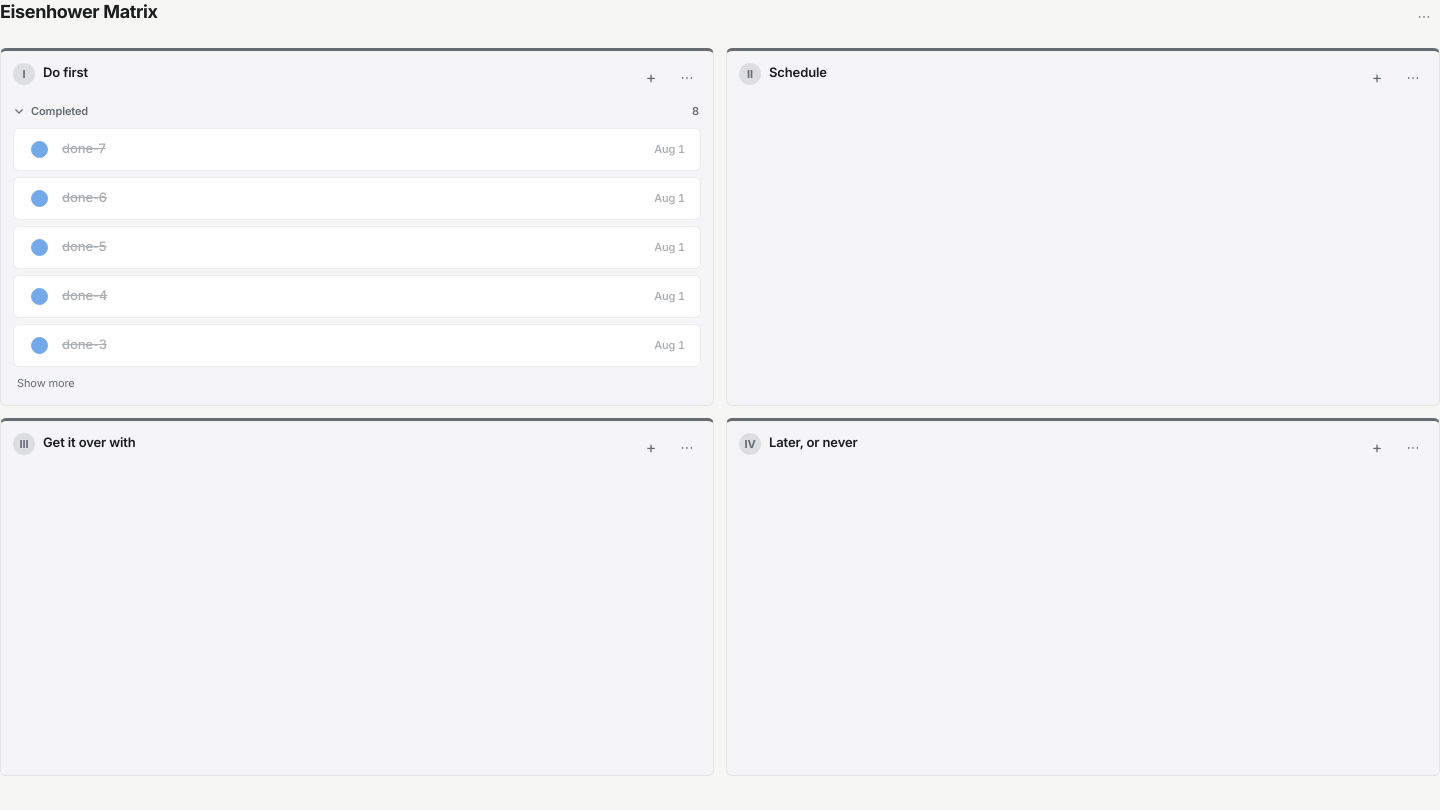
it: finished work › shows the rest when asked, and stops offering
What coordinates should you click on to do the following:
click the button with class "ff-matrix-group-more"
I would click on:
 (46, 383)
Its box is [13,372,79,393].
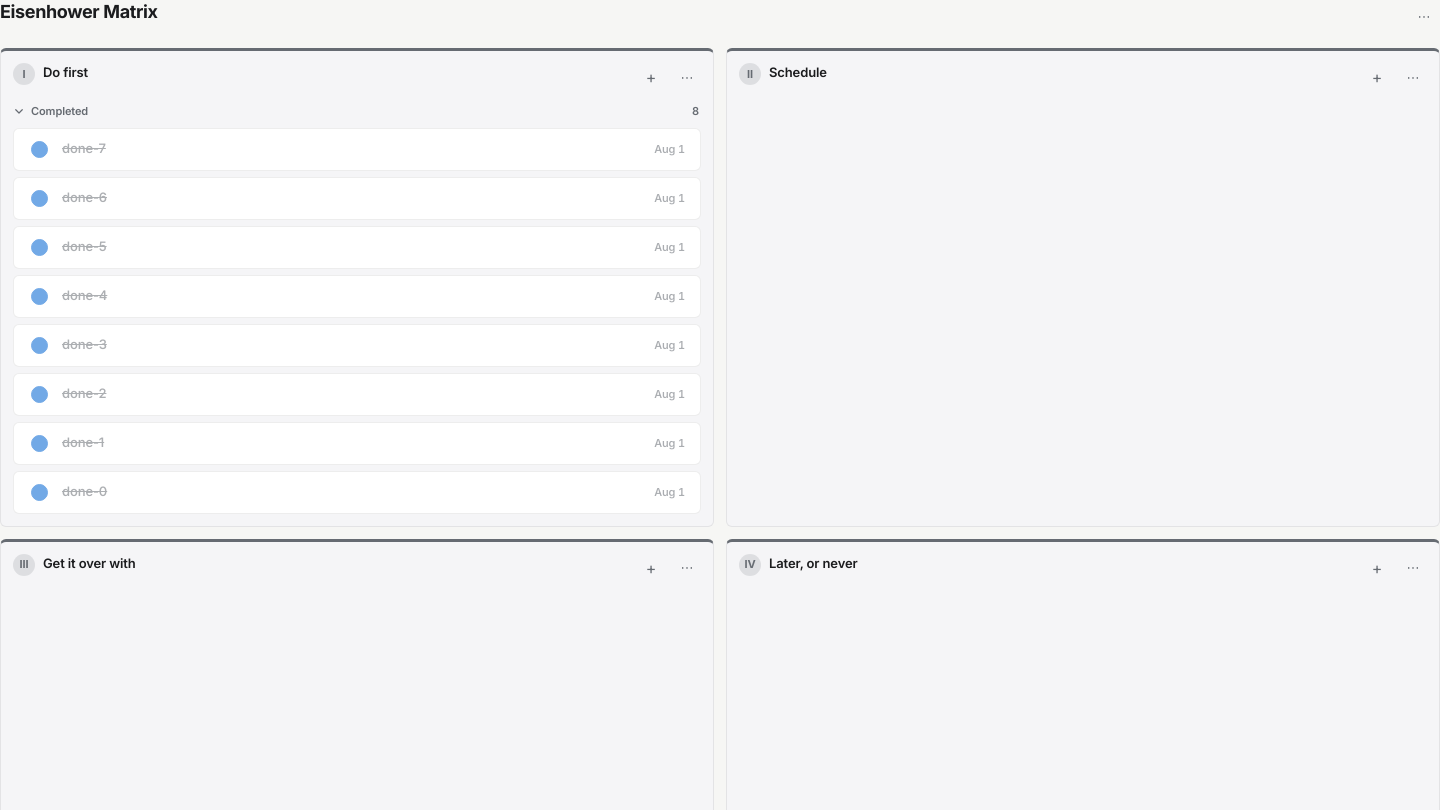
Check: the number of elements with class "ff-matrix-card" is 8
Check: the button with class "ff-matrix-group-more" is gone
